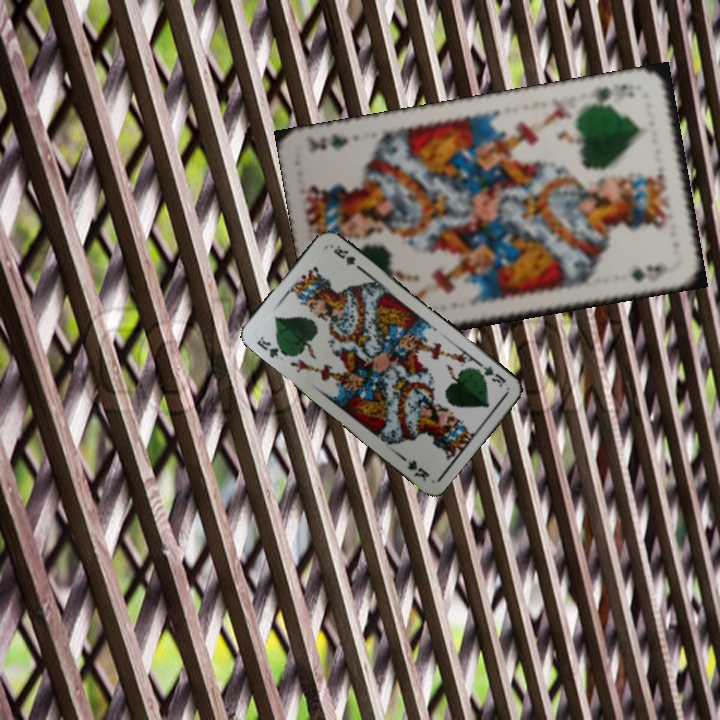GK: (587, 79, 628, 109), (472, 359, 509, 390), (252, 332, 290, 362)
